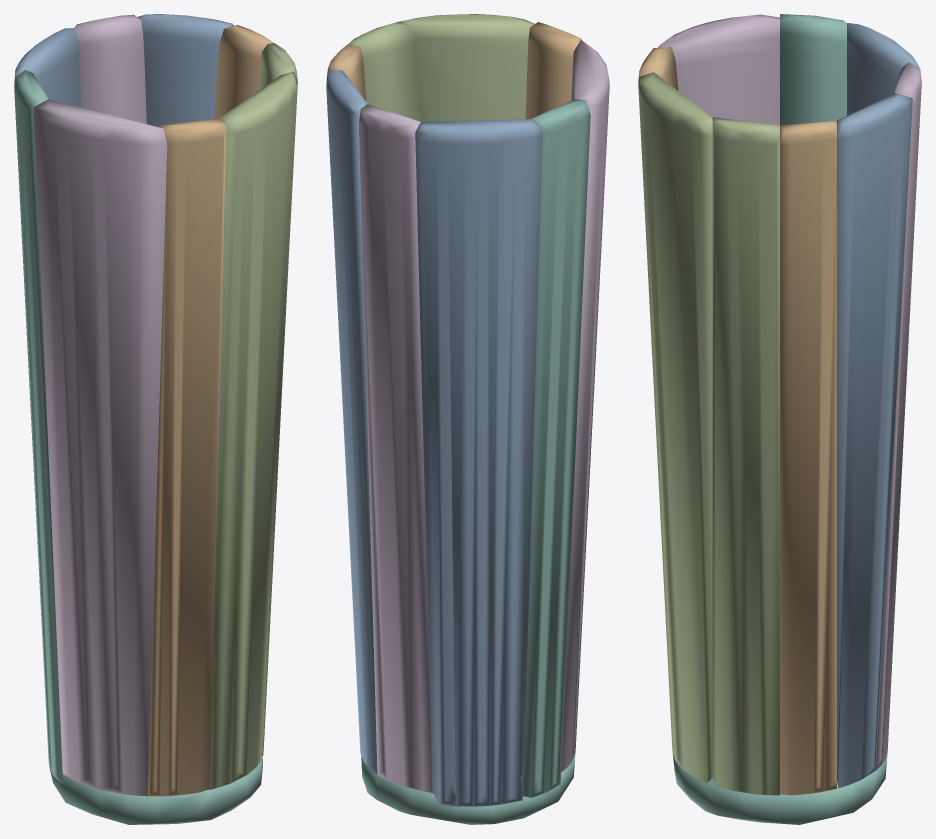
3 renders of one model, left to right at view 1: azimuth 30°, elevation 25°; view 2: azimuth 150°, elevation 25°; view 3: azimuth 270°, elevation 25°, orthographic.
Bounding box in the file's own units: 0.6875 × 1.91 × 0.6878.
